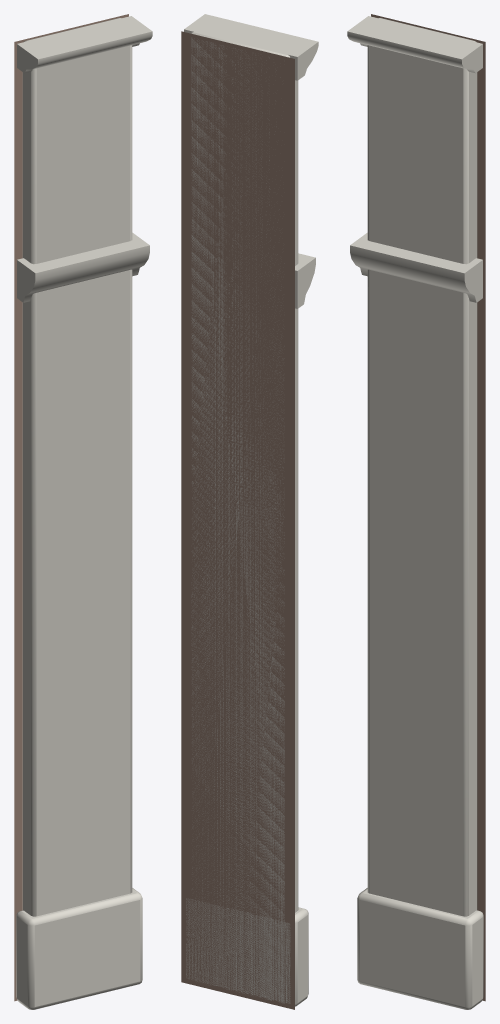
File: filler_pilaster_g_05.glb
3 views of the same model, side by side, from view 1: azimuth 30°, elevation 25°; view 2: azimuth 150°, elevation 25°; view 3: azimuth 330°, elevation 25° (orthographic).
Visible parts, largest first — view 1: filler_pilaster_g_05; view 2: filler_pilaster_g_05; view 3: filler_pilaster_g_05.
Boxes of the visible parts, x1,y1,x2,y2 form: filler_pilaster_g_05: (14, 14, 152, 1009); filler_pilaster_g_05: (181, 14, 318, 1009); filler_pilaster_g_05: (347, 14, 485, 1009).
Size of the model in its own units: 0.5 by 4 by 0.18.
